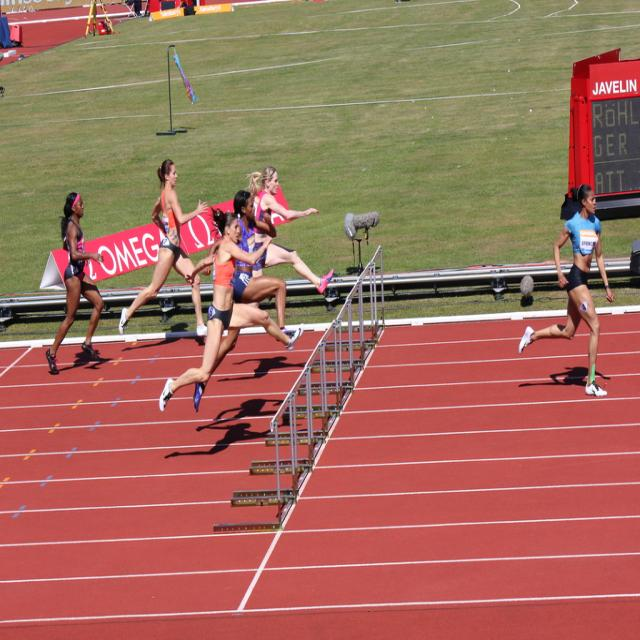Person: (46, 160, 615, 413)
